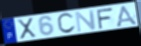6: (37, 15, 56, 37)
A: (114, 4, 139, 27)
C: (56, 12, 77, 35)
F: (95, 7, 114, 30)
N: (74, 9, 97, 33)
X: (16, 17, 38, 40)
